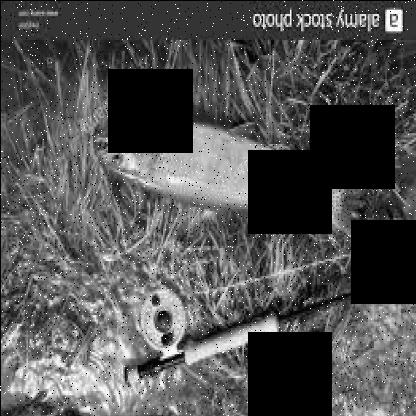fish: (94, 112, 378, 236)
